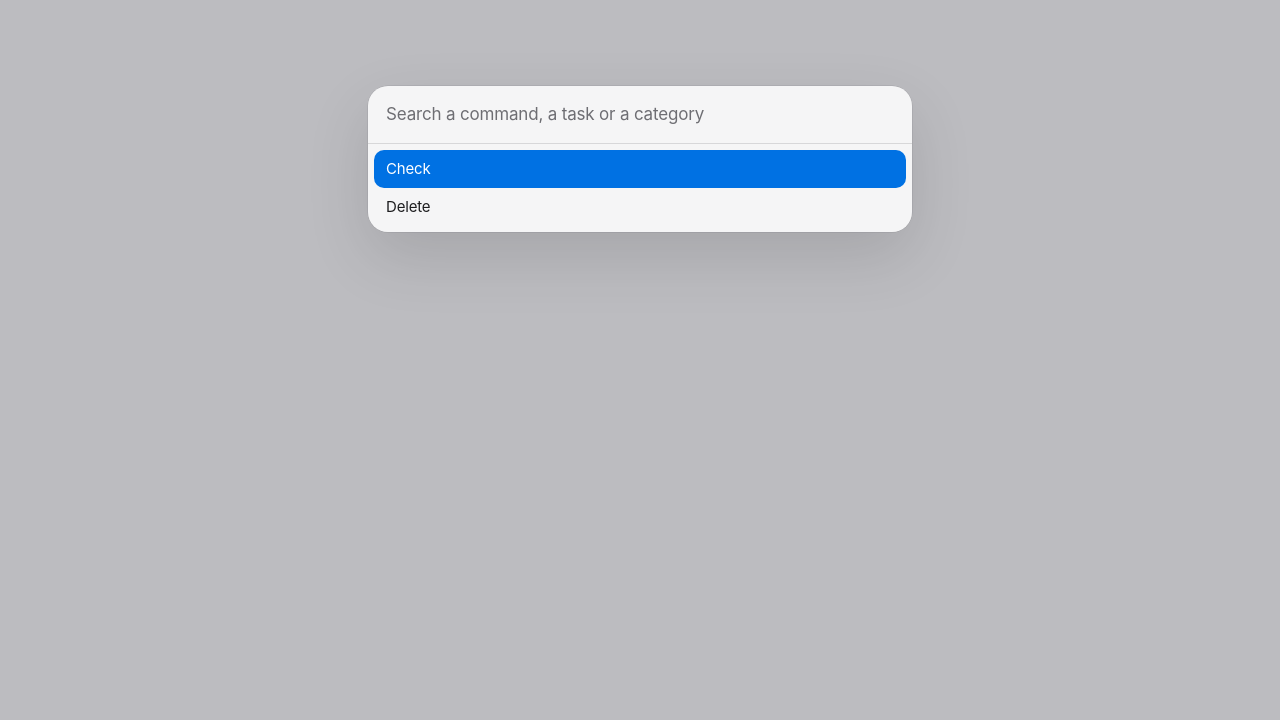
CommandPalette › filters as you type, runs a clicked item, and says when nothing matches
Later steps or results of the test are not shown.
Type "del" into the dropdown.
click(640, 115); type("del")  # box [368,86,912,144]
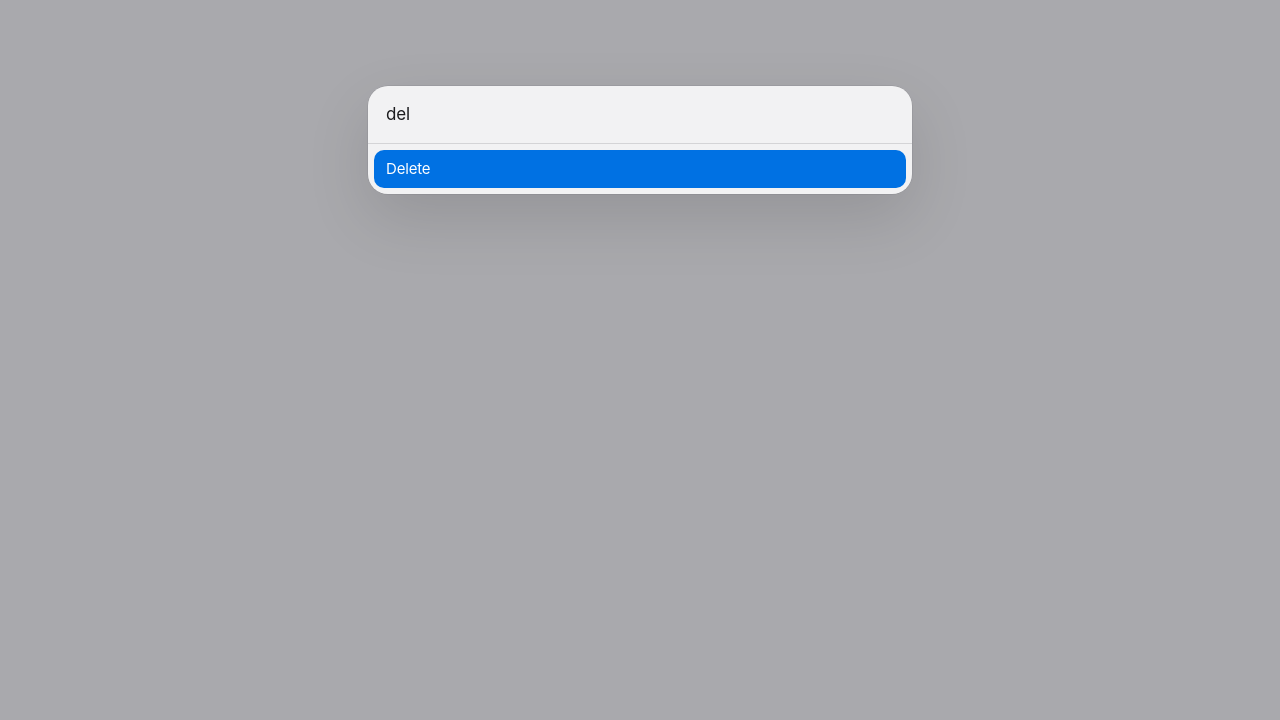
expect the option "Check" is gone: met
